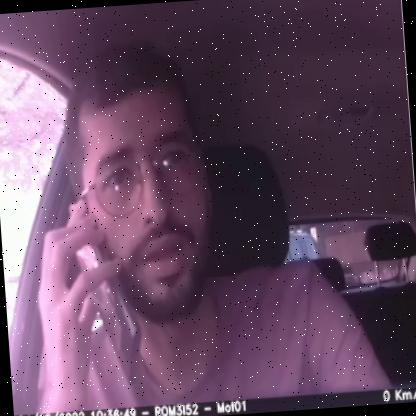phone: (59, 204, 151, 396)
